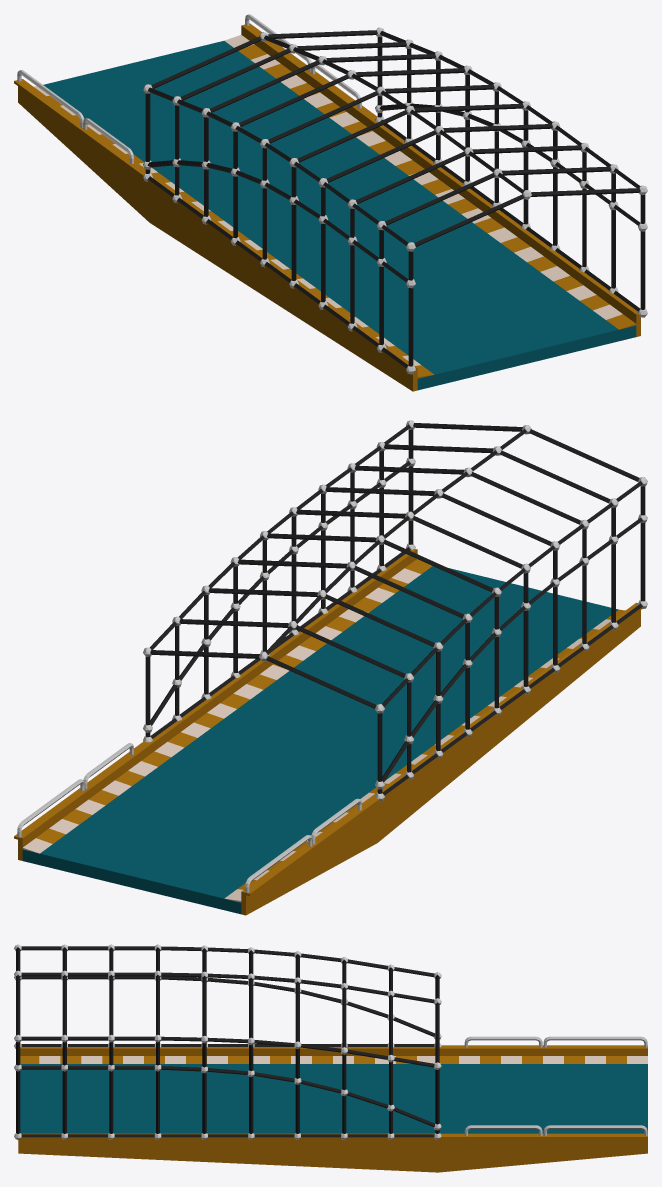
The model's file is drawBridge.FBX.
3 renders of one model, top to bottom at view 1: azimuth 30°, elevation 25°; view 2: azimuth 150°, elevation 25°; view 3: azimuth 270°, elevation 25°, orthographic. The views are drawn at different scales.
Visible parts, largest first — view 1: bridge, bridgeCage, drawBridge, bridgeWall_r, wall_r, bridgeCurbs_l, bridgeWall_l, wall_l, curbs_l, bridgeCurbs_r; view 2: bridge, bridgeCage, drawBridge, bridgeWall_r, wall_r, bridgeCurbs_l, bridgeWall_l, wall_l, curbs_l, bridgeCurbs_r; view 3: bridge, bridgeCage, drawBridge, bridgeWall_l, wall_l, bridgeWall_r, wall_r, bridgeCurbs_r, curbs_r.
Part boxes in pixels (left/top/right/bottom): bridge: left=172, top=137, right=636, bottom=390; bridgeCage: left=143, top=27, right=647, bottom=374; drawBridge: left=43, top=41, right=351, bottom=181; bridgeWall_r: left=139, top=175, right=417, bottom=391; wall_r: left=14, top=70, right=153, bottom=221; bridgeCurbs_l: left=356, top=131, right=636, bottom=329; bridgeWall_l: left=363, top=121, right=640, bottom=336; wall_l: left=241, top=14, right=377, bottom=130; curbs_l: left=224, top=35, right=372, bottom=135; bridgeCurbs_r: left=165, top=182, right=434, bottom=378; bridge: left=172, top=566, right=618, bottom=801; bridgeCage: left=143, top=420, right=647, bottom=801; drawBridge: left=22, top=757, right=351, bottom=914; bridgeWall_r: left=367, top=602, right=643, bottom=844; wall_r: left=241, top=795, right=380, bottom=915; bridgeCurbs_l: left=154, top=559, right=432, bottom=757; bridgeWall_l: left=152, top=549, right=417, bottom=750; wall_l: left=14, top=741, right=154, bottom=860; curbs_l: left=22, top=751, right=170, bottom=853; bridgeCurbs_r: left=360, top=609, right=625, bottom=802; bridge: left=20, top=1064, right=435, bottom=1133; bridgeCage: left=14, top=944, right=441, bottom=1140; drawBridge: left=439, top=1064, right=647, bottom=1133; bridgeWall_l: left=18, top=1133, right=452, bottom=1172; wall_l: left=438, top=1125, right=647, bottom=1172; bridgeWall_r: left=20, top=1047, right=435, bottom=1055; wall_r: left=439, top=1036, right=647, bottom=1055; bridgeCurbs_r: left=20, top=1056, right=435, bottom=1063; curbs_r: left=439, top=1056, right=647, bottom=1063.
Size of what is drawn, in the model's own units: 212 by 166 by 604.
